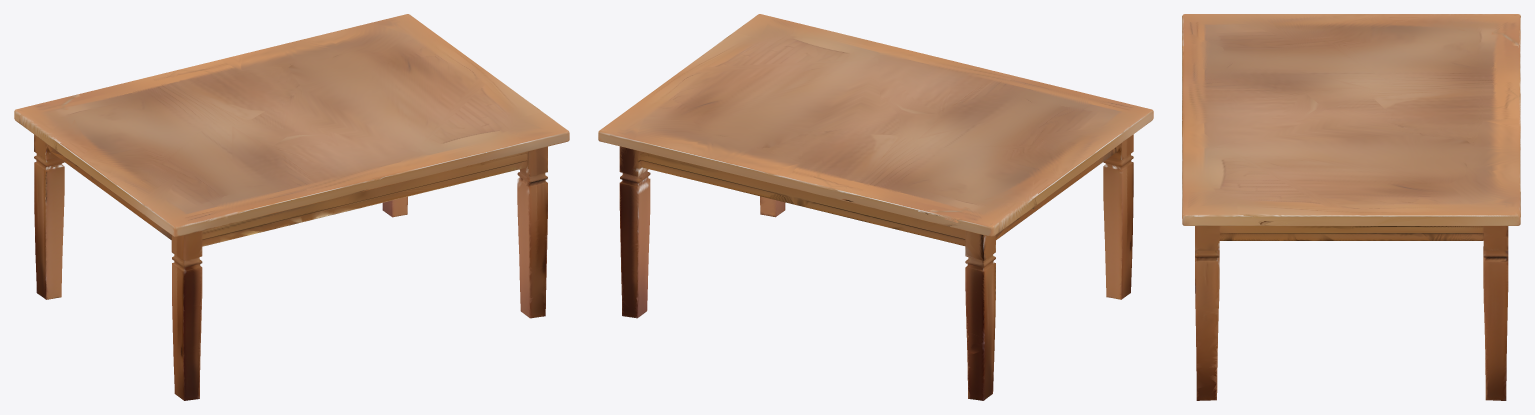
File: base_basic_shaded.fbx
3 views of the same model, side by side, from view 1: azimuth 30°, elevation 25°; view 2: azimuth 150°, elevation 25°; view 3: azimuth 270°, elevation 25° (orthographic). The views are drawn at different scales.
Parts seen in each view (by area): view 1: model; view 2: model; view 3: model.
Boxes of the visible parts, left/top/right/bottom form: model: left=14, top=14, right=569, bottom=400; model: left=598, top=14, right=1153, bottom=400; model: left=1182, top=14, right=1520, bottom=400.
Size of the model in its own units: 173 by 77.55 by 122.
